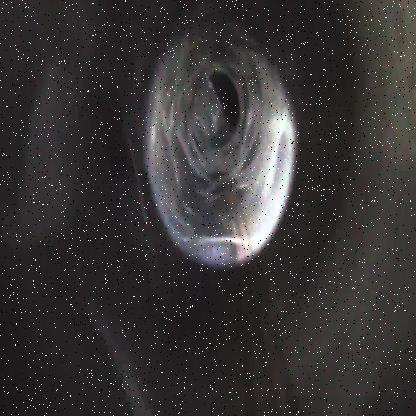Crack: (143, 8, 297, 269)
